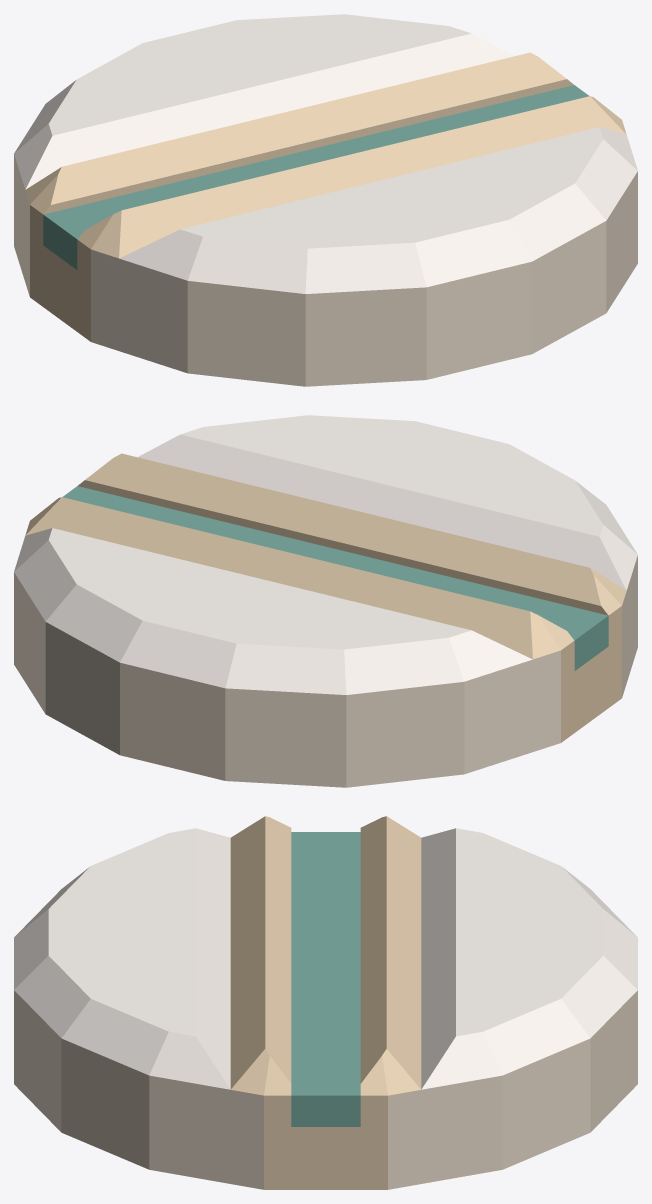
Rendered from Puzzle_Floor_Conduit_Rotating_Platform_Straight.glb.
The picture shows the model from 3 angles, top to bottom: view 1: azimuth 30°, elevation 25°; view 2: azimuth 150°, elevation 25°; view 3: azimuth 270°, elevation 25°; orthographic projection.
Visible parts, largest first — view 1: Puzzle_Floor_Conduit_Rotating_Platform_Straight; view 2: Puzzle_Floor_Conduit_Rotating_Platform_Straight; view 3: Puzzle_Floor_Conduit_Rotating_Platform_Straight.
Boxes of the visible parts, x1,y1,x2,y2 form: Puzzle_Floor_Conduit_Rotating_Platform_Straight: (14, 14, 637, 386); Puzzle_Floor_Conduit_Rotating_Platform_Straight: (14, 415, 637, 787); Puzzle_Floor_Conduit_Rotating_Platform_Straight: (14, 816, 637, 1189).
Size of the model in its own units: 0.9 by 0.2 by 0.9.
